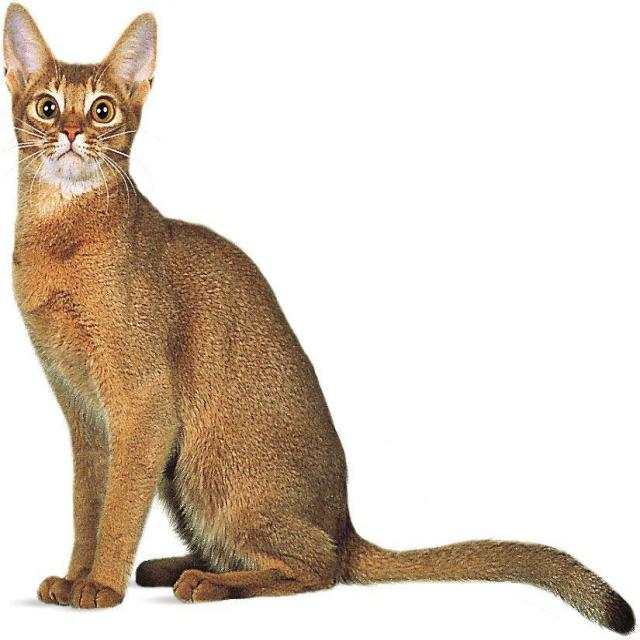Cat: (1, 0, 165, 193)
